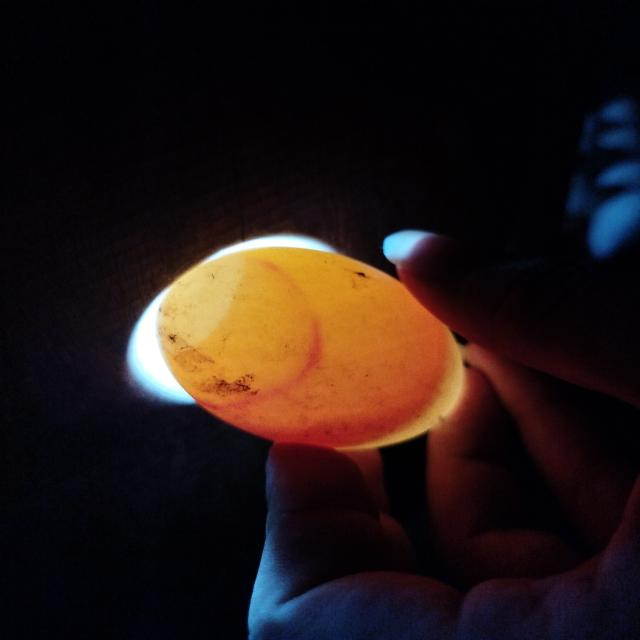Camara de Ar: (157, 254, 243, 351)
Gema Quebrada: (249, 371, 440, 448)
